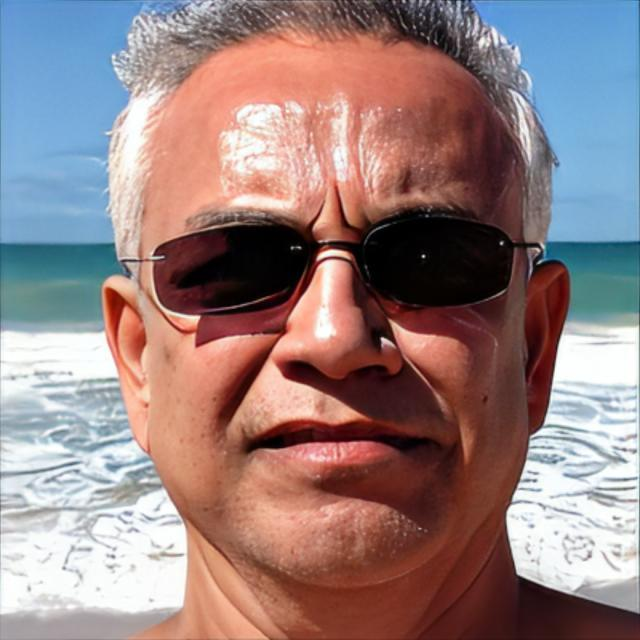disgust: (139, 24, 529, 592)
